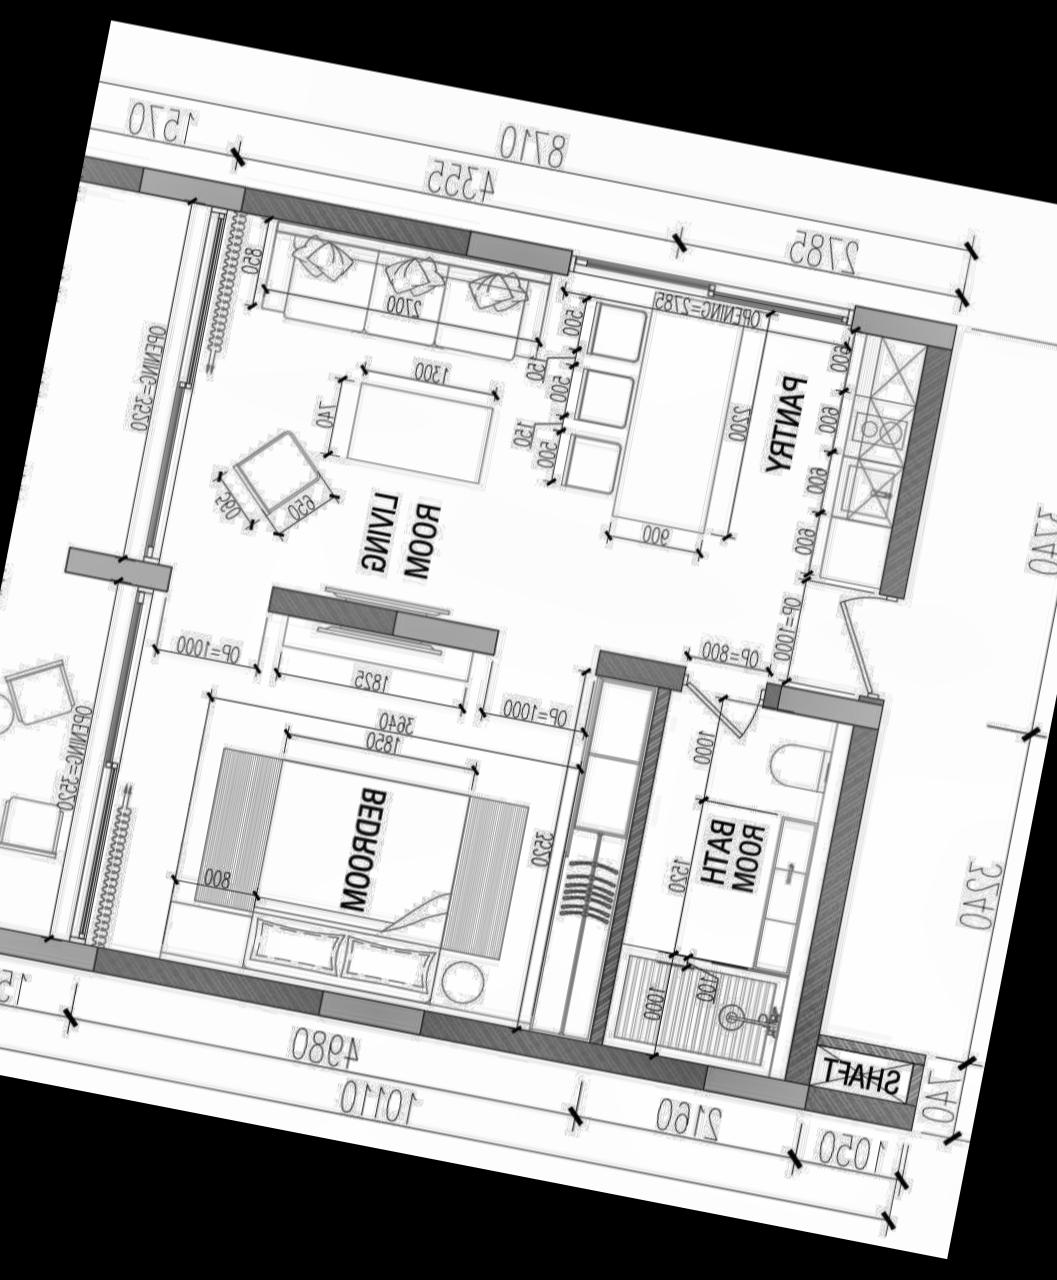door: (813, 582, 910, 710), (670, 657, 775, 747)
window: (130, 202, 239, 571), (56, 580, 164, 948), (557, 238, 863, 348)
